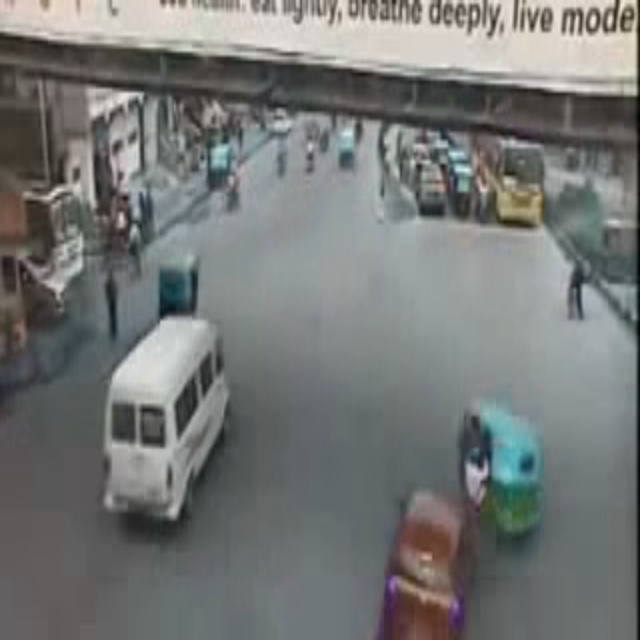acc: (378, 370, 543, 640)
